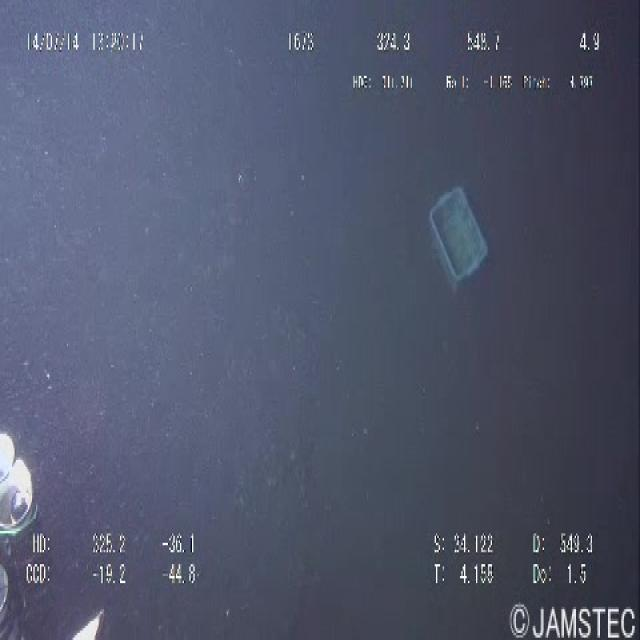plastic: (420, 164, 501, 308)
